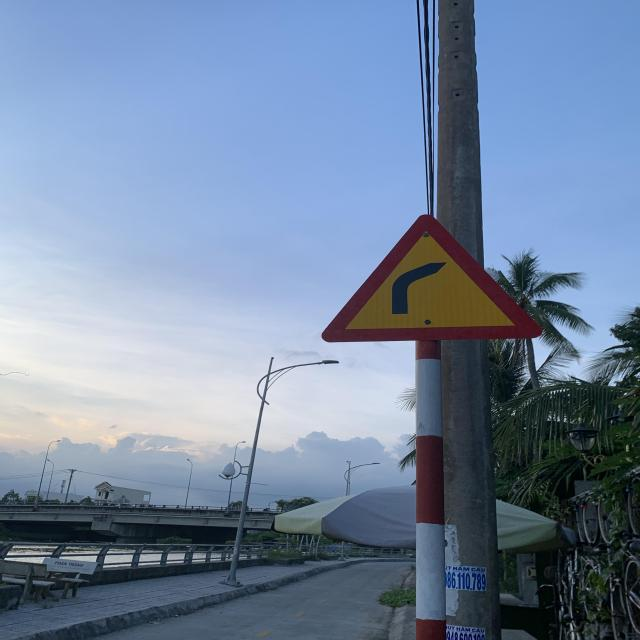Duong_Nguoi_Di_Bo_Cat_Ngang: (323, 215, 537, 343)
